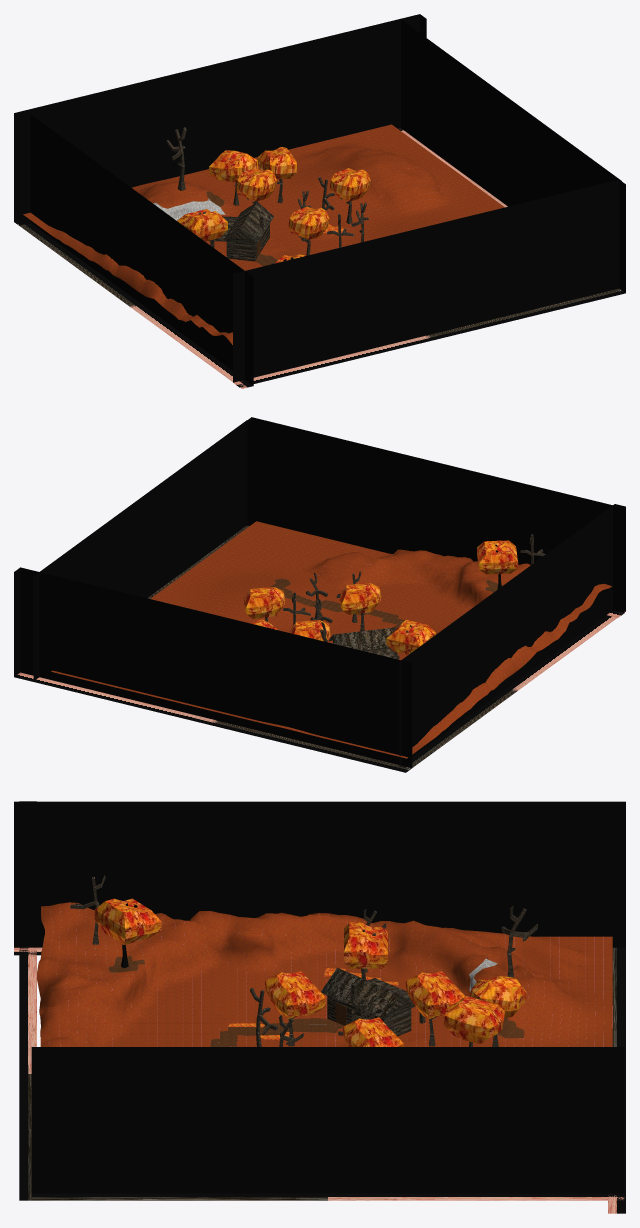
File: environmentv1.glb
The picture shows the model from 3 angles, top to bottom: view 1: azimuth 30°, elevation 25°; view 2: azimuth 150°, elevation 25°; view 3: azimuth 270°, elevation 25°; orthographic projection. The views are drawn at different scales.
Parts seen in each view (by area): view 1: Cube.001, Cube, Plane.002-col, Cube.003-col, tree1.003-col.008, tree1.003-col.003, tree1.003-col.001, tree1.003-col, tree1.003-col.006, tree1.003-col.007; view 2: Cube, Cube.001, Plane.002-col, tree1.003-col.004, Cube.003-col, tree1.003-col.001, tree1.003-col.003, tree1.003-col, tree1.003-col.006; view 3: Cube.001, Cube, Plane.002-col, Cube.003-col, tree1.003-col.004, tree1.003-col.001, tree1.003-col.007, tree1.003-col.006, tree1.003-col, tree1.003-col.008, tree1.003-col.003, tree1.005-col.
Boxes of the visible parts, <box> form: Cube.001: <box>233,19,625,387</box>; Cube: <box>14,14,426,388</box>; Plane.002-col: <box>23,124,504,344</box>; Cube.003-col: <box>208,201,273,261</box>; tree1.003-col.008: <box>209,150,258,205</box>; tree1.003-col.003: <box>329,168,370,223</box>; tree1.003-col.001: <box>288,206,329,255</box>; tree1.003-col: <box>177,209,227,241</box>; tree1.003-col.006: <box>236,168,276,203</box>; tree1.003-col.007: <box>257,147,296,203</box>; Cube: <box>14,504,625,772</box>; Cube.001: <box>33,417,624,680</box>; Plane.002-col: <box>51,521,611,758</box>; tree1.003-col.004: <box>477,540,518,589</box>; Cube.003-col: <box>329,623,399,659</box>; tree1.003-col.001: <box>340,583,381,631</box>; tree1.003-col.003: <box>244,587,285,621</box>; tree1.003-col: <box>386,619,435,654</box>; tree1.003-col.006: <box>289,620,330,641</box>; Cube.001: <box>19,801,624,1200</box>; Cube: <box>14,801,625,1213</box>; Plane.002-col: <box>37,902,612,1046</box>; Cube.003-col: <box>321,968,425,1036</box>; tree1.003-col.004: <box>94,898,161,968</box>; tree1.003-col.001: <box>265,971,326,1046</box>; tree1.003-col.007: <box>443,996,504,1046</box>; tree1.003-col.006: <box>405,971,465,1046</box>; tree1.003-col: <box>344,922,387,979</box>; tree1.003-col.008: <box>470,975,526,1046</box>; tree1.003-col.003: <box>343,1017,404,1046</box>; tree1.005-col: <box>501,905,537,977</box>.
Bounding box in the file's own units: 70.52 × 18.06 × 68.51.
4 materials, 4 textured.
